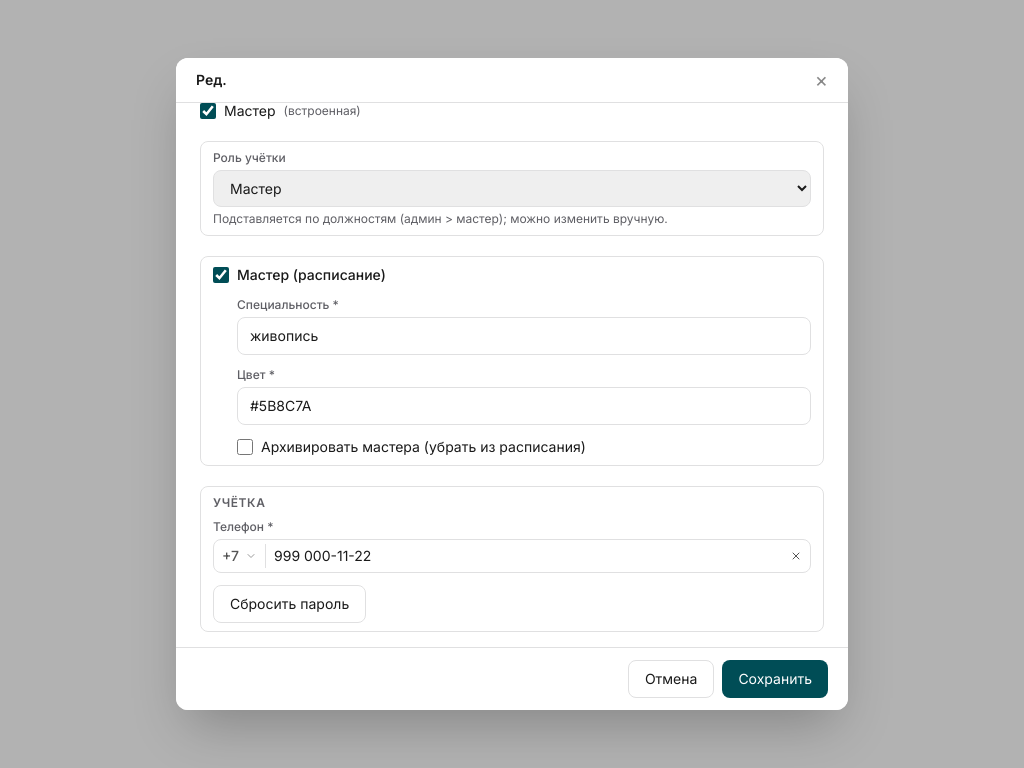
Scenario: edit: issue link button (S3) › failed issuance: the dialog shows the error and «Повторить»
The width and height of the screenshot is (1024, 768).
(page scrolled)
Click the button with test id "issue-link-btn" at [290, 604], box [213,585,366,623]
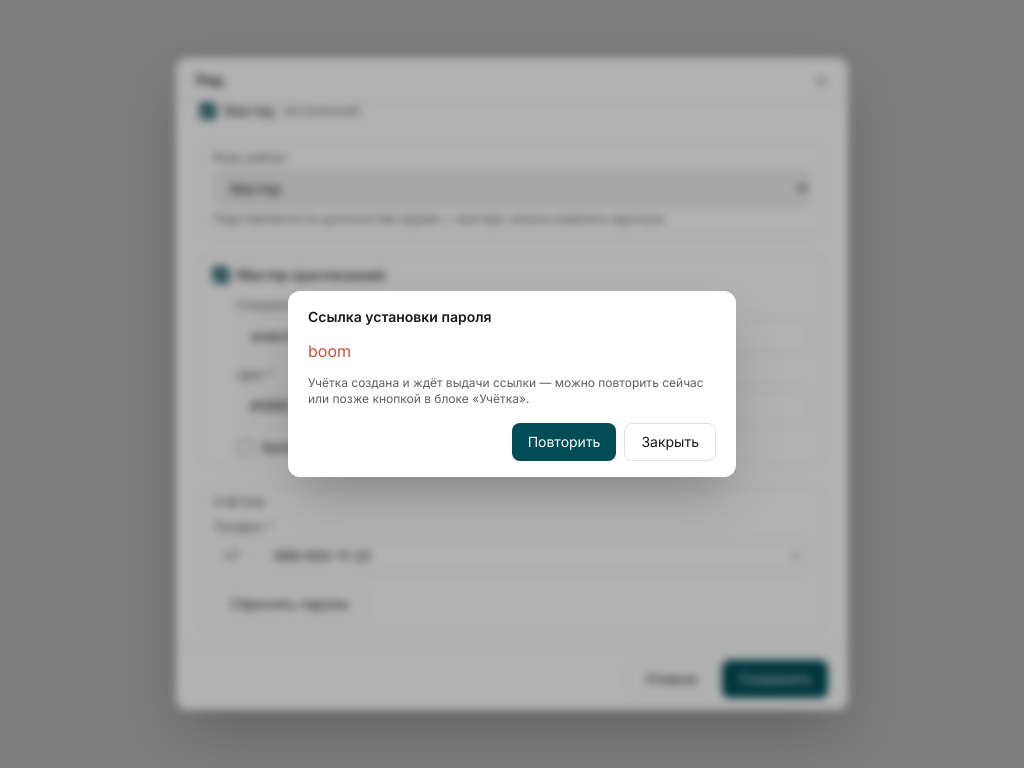
Now the message "boom" is shown, box [308,341,351,361]
Click the button with test id "link-dialog-retry-btn" at [564, 442], box [512,423,616,461]
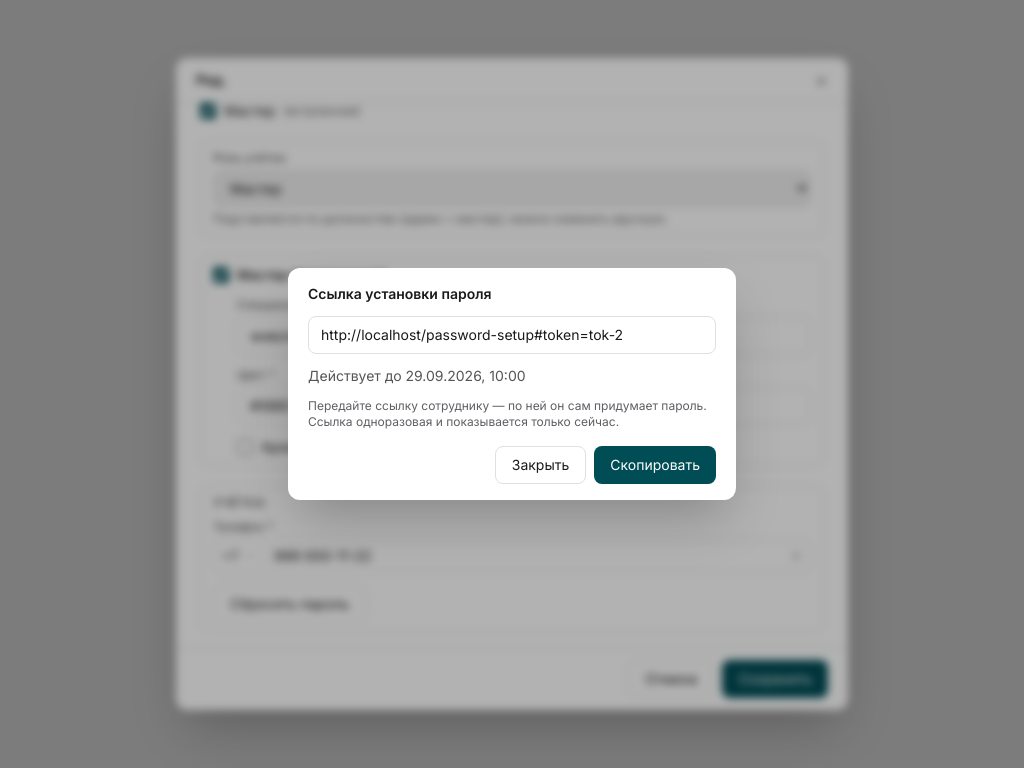
Now the field with test id "link-url-field" is shown, box [308,316,716,354]
